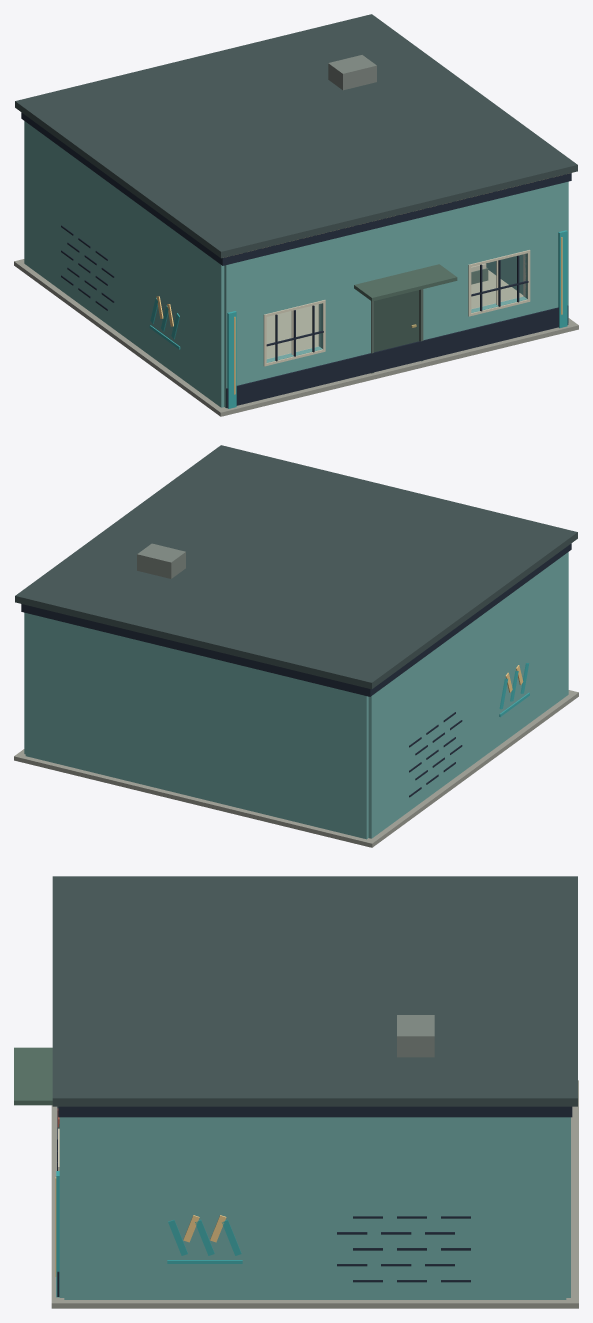
Rendered from shelter.glb.
3 views of the same model, one above another, from view 1: azimuth 30°, elevation 25°; view 2: azimuth 150°, elevation 25°; view 3: azimuth 270°, elevation 25° (orthographic). The views are drawn at different scales.
Parts seen in each view (by area): view 1: roof, front-wall (×7), side-wall (×2), painted-plinth, foundation, cornice-outline, window-glass (×2), floor, door-panel, shelter-entrance-canopy, corner-pilaster (×2), roof-vent; view 2: roof, back-wall, side-wall, foundation, cornice-outline, roof-vent; view 3: roof, side-wall, foundation, cornice-outline, shelter-entrance-canopy, roof-vent, back-wall.
Boxes of the visible parts, left/top/right/bottom form: roof: left=15, top=14, right=577, bottom=258; front-wall (×7): left=224, top=182, right=567, bottom=408; side-wall (×2): left=24, top=121, right=568, bottom=407; painted-plinth: left=226, top=305, right=568, bottom=408; foundation: left=14, top=259, right=578, bottom=416; cornice-outline: left=21, top=112, right=571, bottom=265; window-glass (×2): left=267, top=254, right=525, bottom=360; floor: left=266, top=270, right=523, bottom=358; door-panel: left=374, top=290, right=418, bottom=352; shelter-entrance-canopy: left=354, top=264, right=457, bottom=301; corner-pilaster (×2): left=227, top=230, right=567, bottom=408; roof-vent: left=328, top=55, right=376, bottom=90; roof: left=15, top=445, right=577, bottom=689; back-wall: left=25, top=613, right=368, bottom=839; side-wall: left=368, top=552, right=568, bottom=838; foundation: left=14, top=690, right=578, bottom=847; cornice-outline: left=21, top=543, right=571, bottom=696; roof-vent: left=137, top=543, right=185, bottom=578; roof: left=52, top=876, right=577, bottom=1106; side-wall: left=64, top=1117, right=566, bottom=1299; foundation: left=51, top=1080, right=578, bottom=1308; cornice-outline: left=58, top=1106, right=572, bottom=1117; shelter-entrance-canopy: left=14, top=1047, right=52, bottom=1105; roof-vent: left=397, top=1015, right=434, bottom=1057; back-wall: left=566, top=1117, right=570, bottom=1297.
Bounding box in the file's own units: 12.6 × 6.08 × 13.5.
